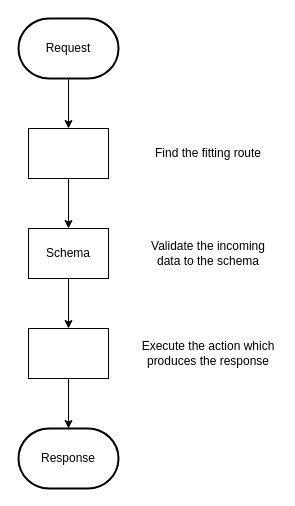
This 295x506 diagram has some shape labels left out. The shapes that lost their labels are listed below. From the top down, each one's centre as x and y in pixels, then its label:
At (68,153): "Route".
At (68,353): "Action".
